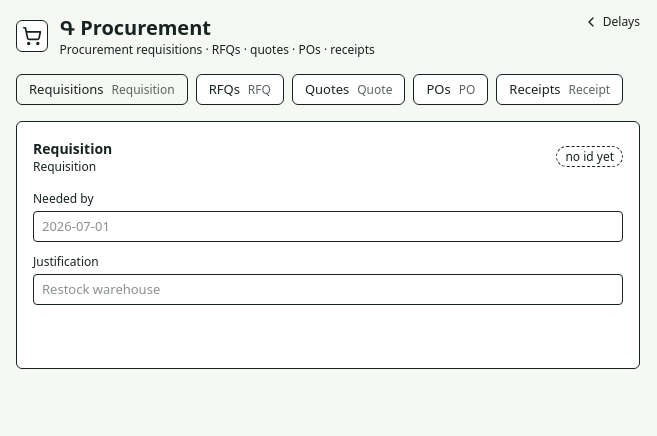
Test: disabled-until-prior-id guards › quote form is disabled until an RFQ id exists
The width and height of the screenshot is (657, 436).
Click the tab with test id "procurement-tab-quote": (349, 90) x1=292 y1=74 x2=405 y2=105
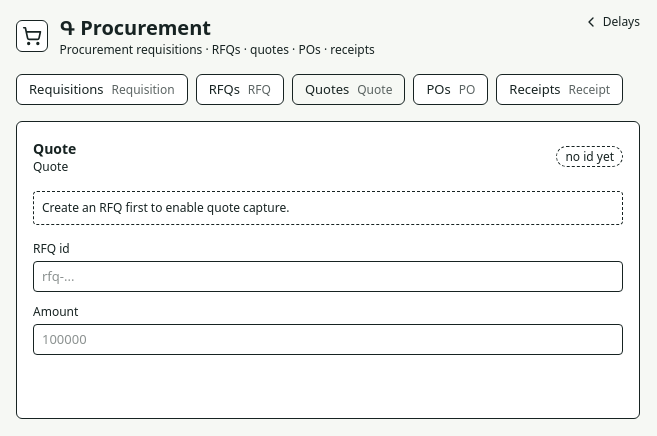
Result: the element showing "RFQ id Amount" is disabled at x1=33 y1=241 x2=623 y2=355
Result: the text "Create an RFQ first to enable quote capture." is shown at x1=33 y1=191 x2=623 y2=225
